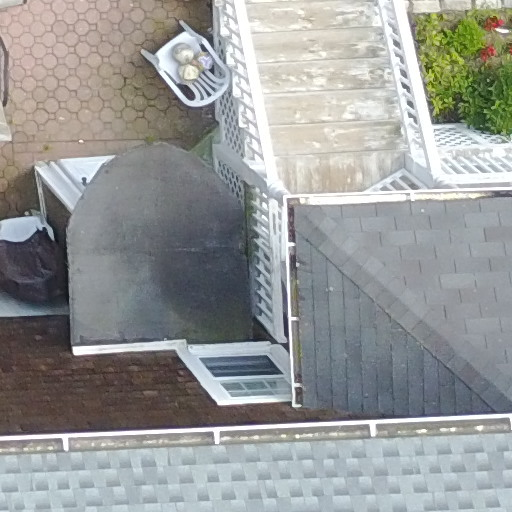container: (170, 34, 197, 63), (195, 55, 218, 81), (177, 60, 201, 84)
